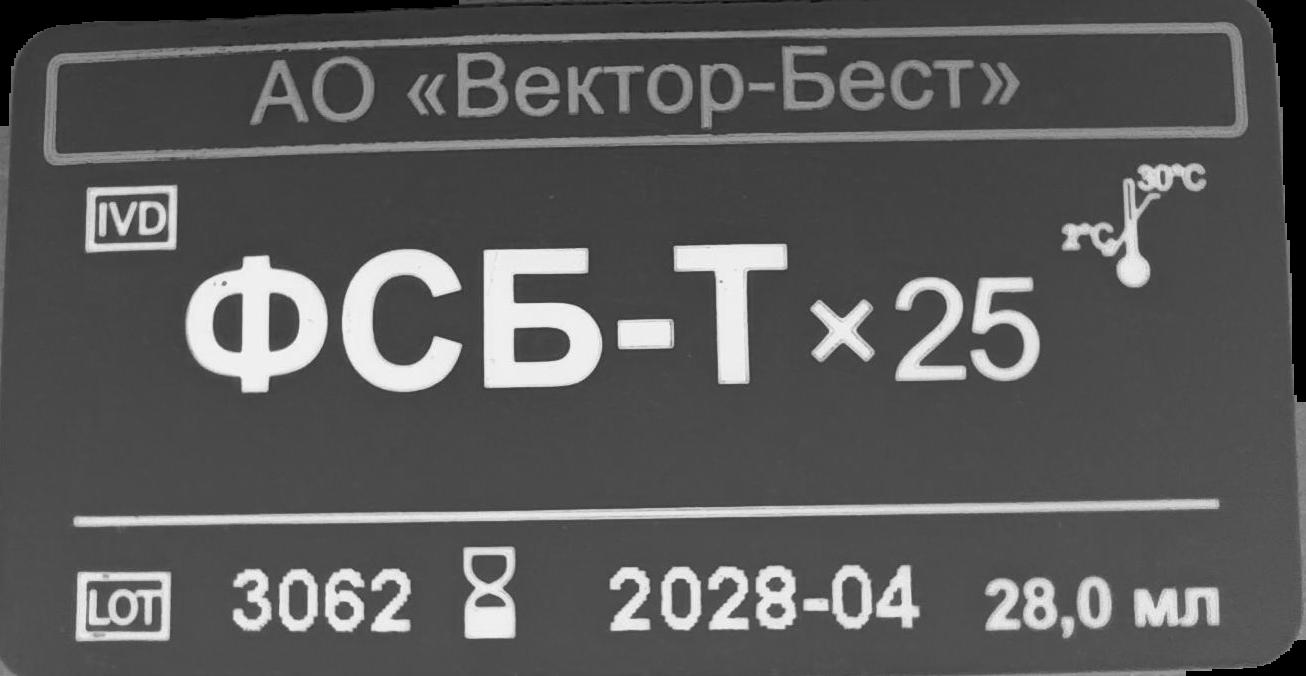something: (1054, 160, 1210, 295), (81, 180, 181, 254), (72, 569, 173, 642), (460, 545, 521, 637)
text: (180, 237, 1046, 403), (248, 42, 1020, 133), (606, 562, 915, 633), (986, 576, 1219, 640), (223, 564, 418, 639)
